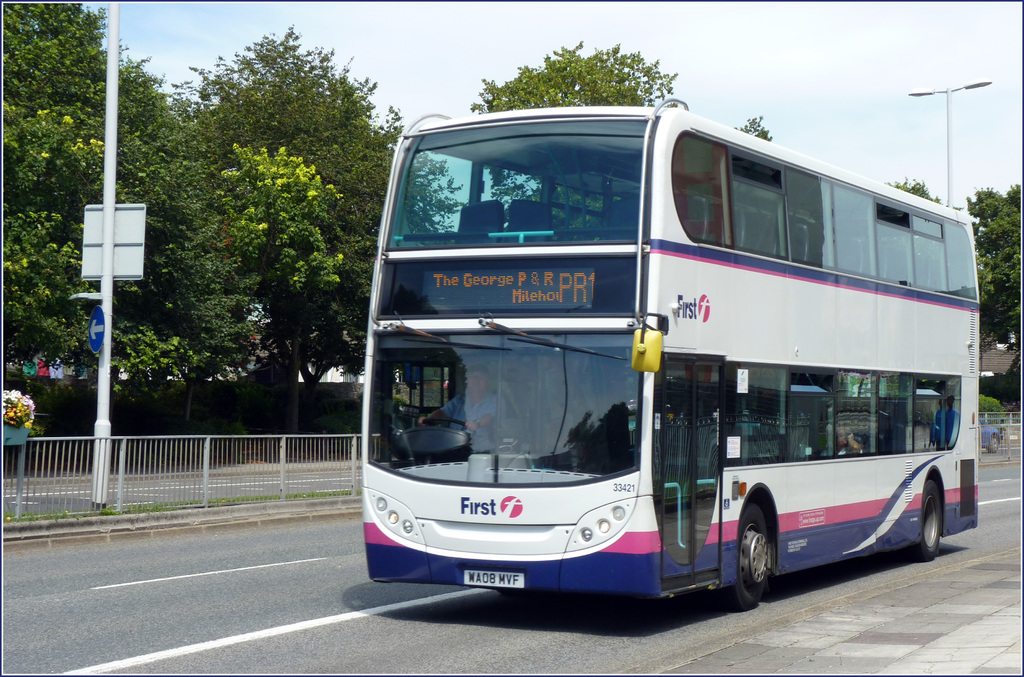Car: (979, 415, 1003, 454)
